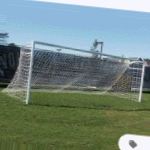goals: (4, 39, 149, 107)
